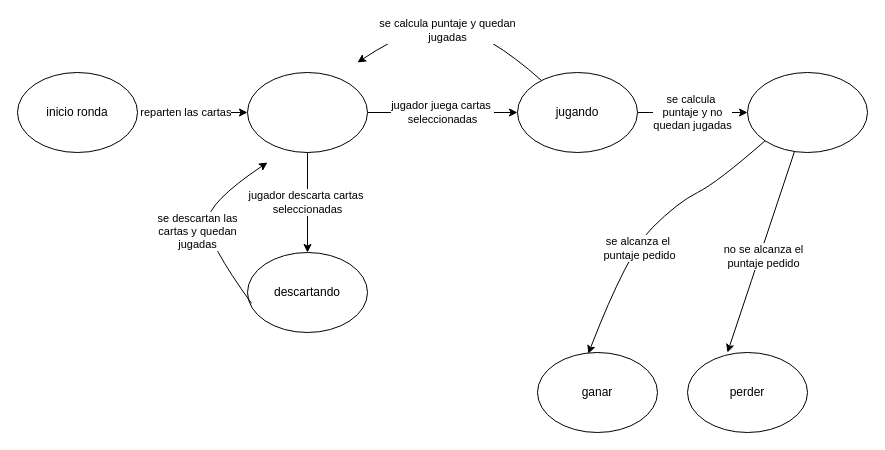
This 885x450 diagram has some shape labels left out. Here are the shapes that lost their labels. From the top down, the box of each, then its label:
(246, 72, 368, 152): turno jugador
(746, 72, 868, 152): fin ronda
